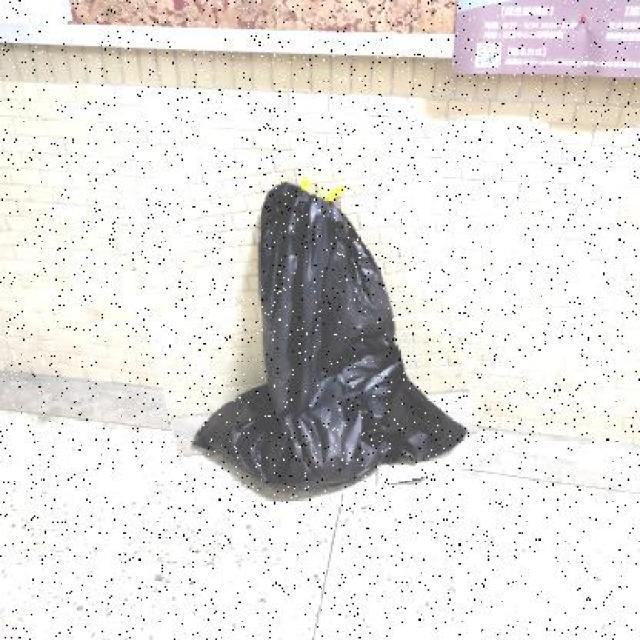waste: (138, 140, 470, 512)
